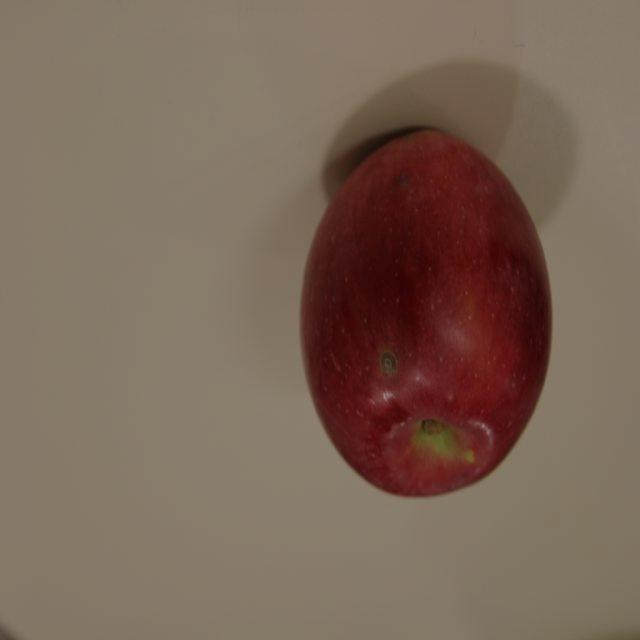red apple: (297, 127, 552, 500)
